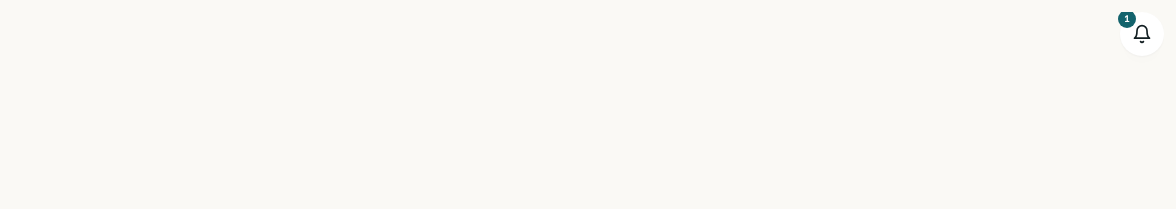
Test: opening the list › opens on the bell
Step 1. Click the button named "الإشعارات" → [1142, 34], box [1120,12,1164,56]
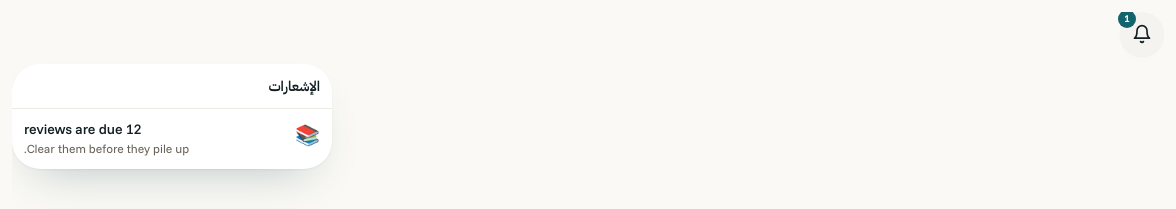
Expected: the heading "الإشعارات" is shown, [268,77,320,95]
Expected: the button with aria-label "إشعار: 12 reviews are due" is shown, [12,109,332,168]
